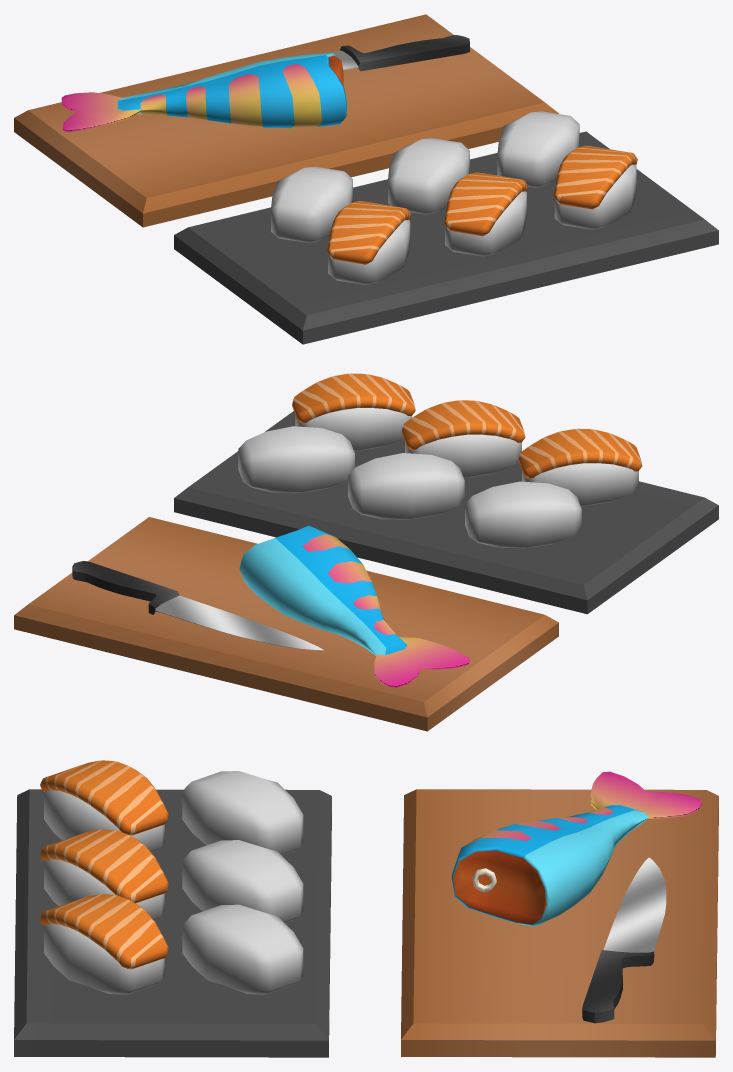
Rendered from Station Nigiri.fbx.
3 renders of one model, top to bottom at view 1: azimuth 30°, elevation 25°; view 2: azimuth 150°, elevation 25°; view 3: azimuth 270°, elevation 25°, orthographic. The views are drawn at different scales.
Visible parts, largest first — view 1: Station_Nigiri; view 2: Station_Nigiri; view 3: Station_Nigiri.
Boxes of the visible parts, <box> form: Station_Nigiri: <box>14,14,718,344</box>; Station_Nigiri: <box>14,373,718,731</box>; Station_Nigiri: <box>14,760,718,1057</box>.
Size of the model in its own units: 136 by 25.33 by 166.
